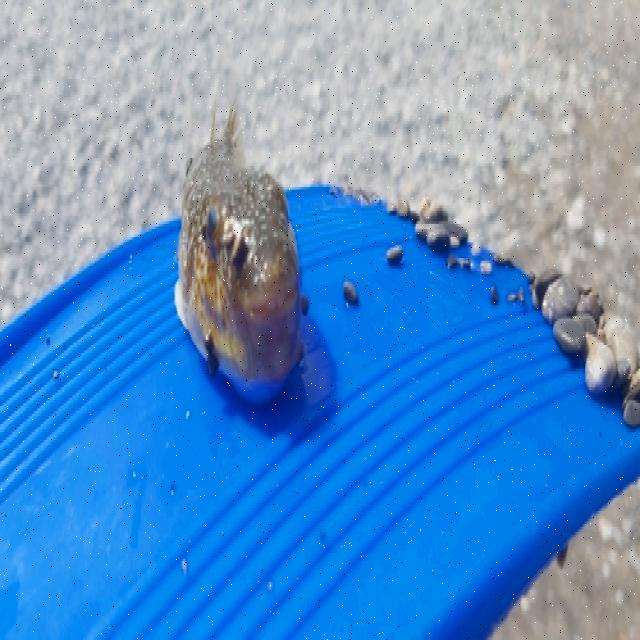Balik: (176, 103, 302, 402)
